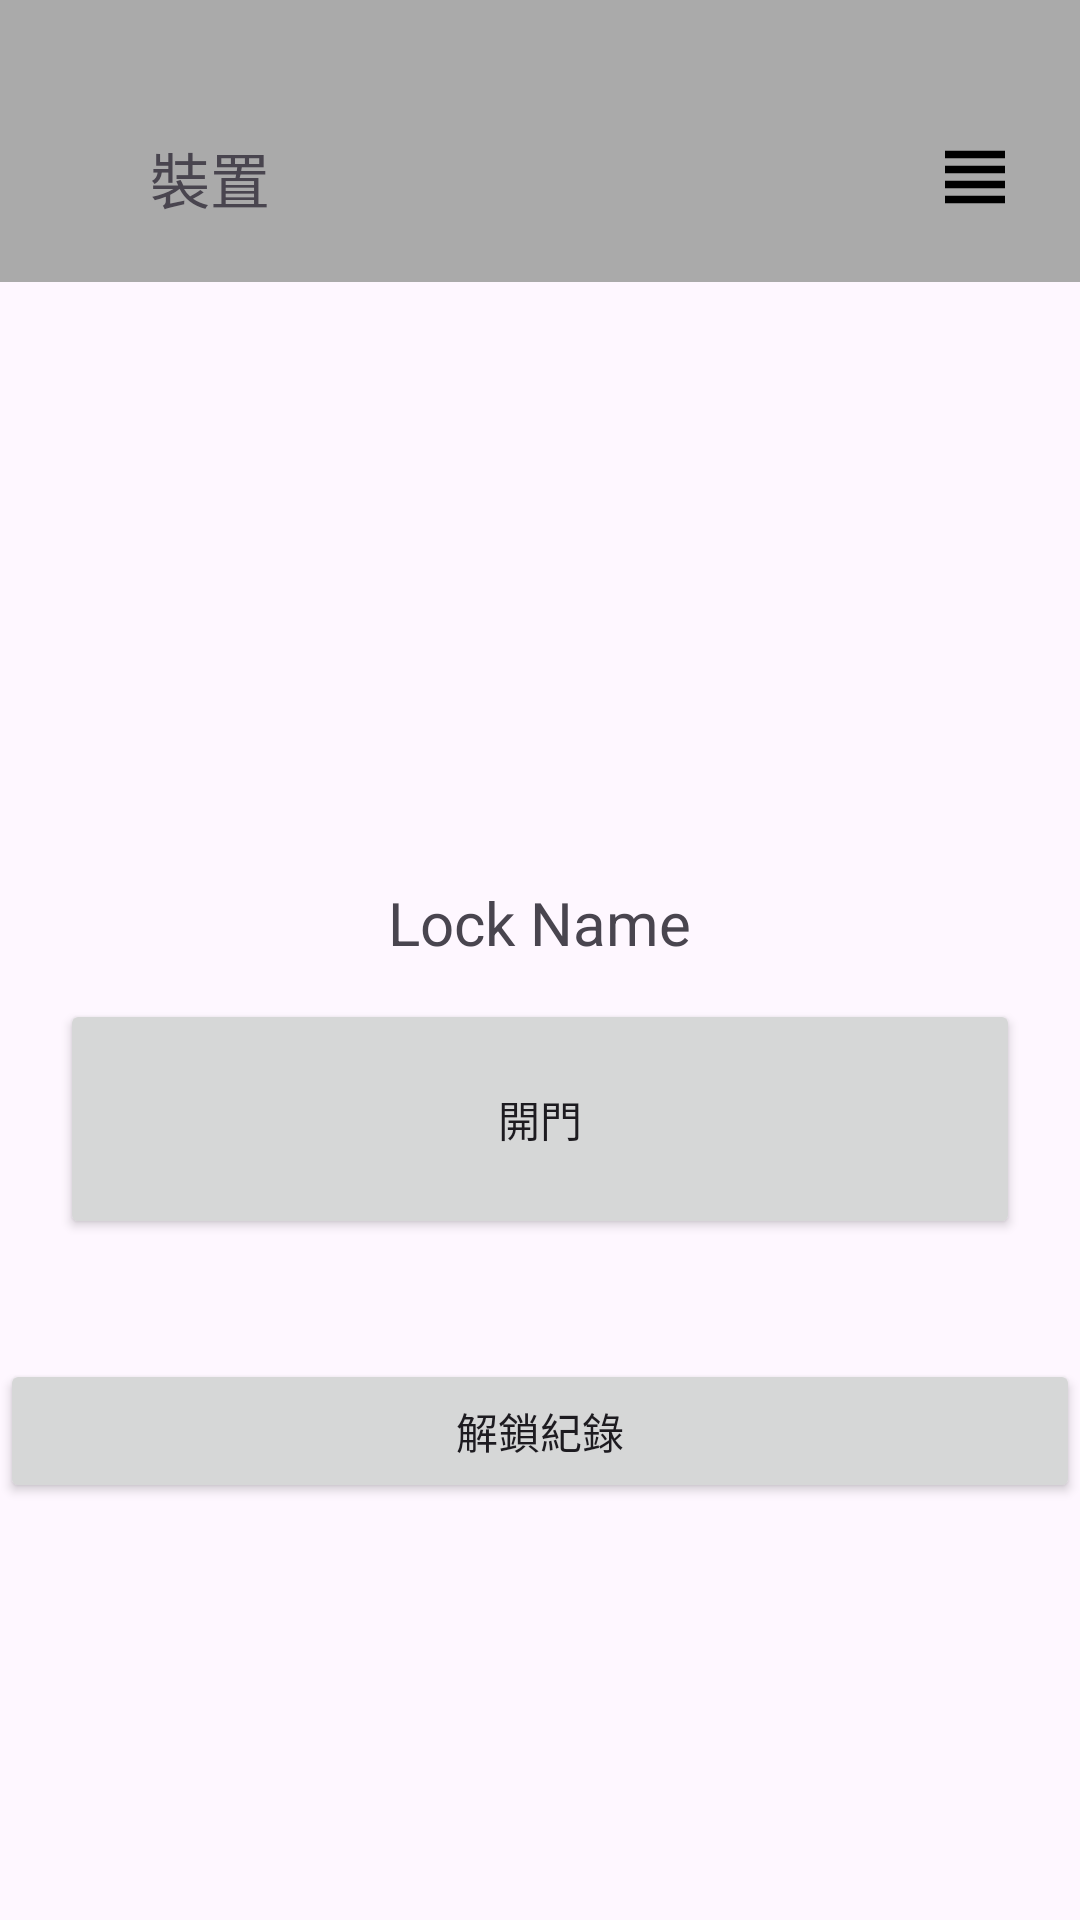

Point at icon controls on the screen. Image size 1080px x 1920px, points as [x,y].
其他: [975,177]
